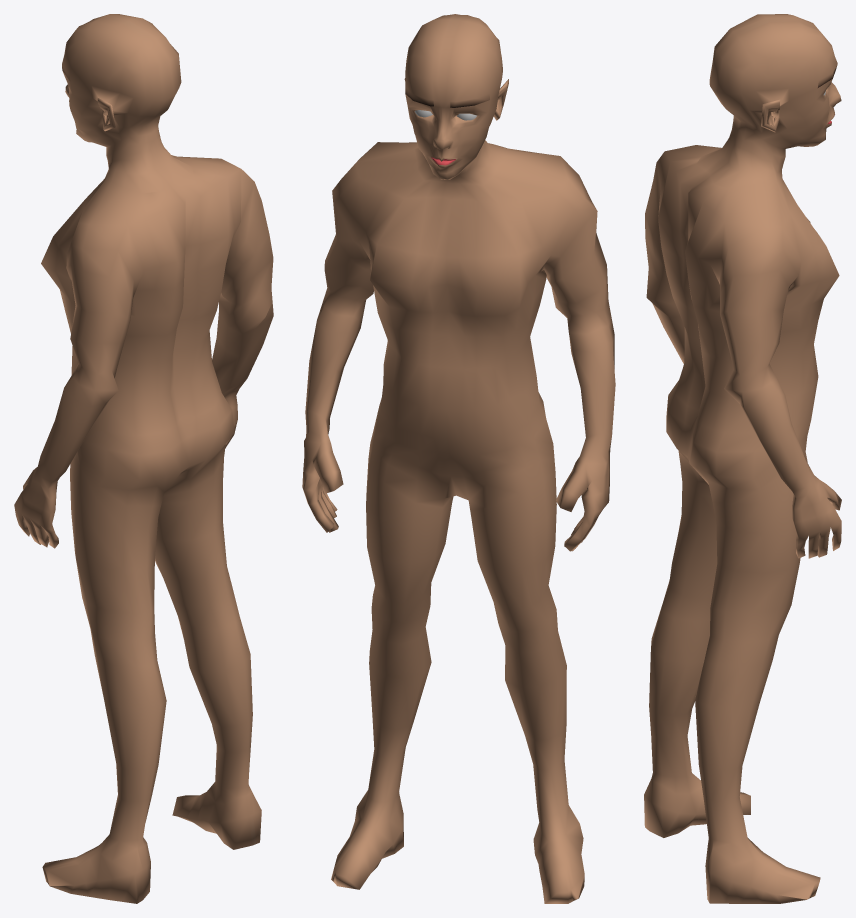
Rendered from boneco4.glb.
The picture shows the model from 3 angles, left to right: view 1: azimuth 30°, elevation 25°; view 2: azimuth 150°, elevation 25°; view 3: azimuth 270°, elevation 25°; orthographic projection. The views are drawn at different scales.
Parts seen in each view (by area): view 1: Plane.003; view 2: Plane.003; view 3: Plane.003.
Boxes of the visible parts, <box> form: Plane.003: <box>14,14,273,903</box>; Plane.003: <box>302,14,615,903</box>; Plane.003: <box>644,14,841,903</box>.
Bounding box in the file's own units: 1.21 × 3.68 × 0.7927.
